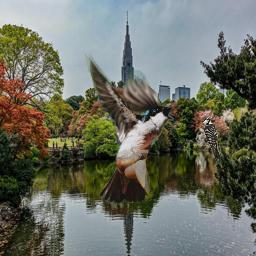Swallow: (84, 53, 175, 203)
Woodpecker: (203, 116, 221, 163)
